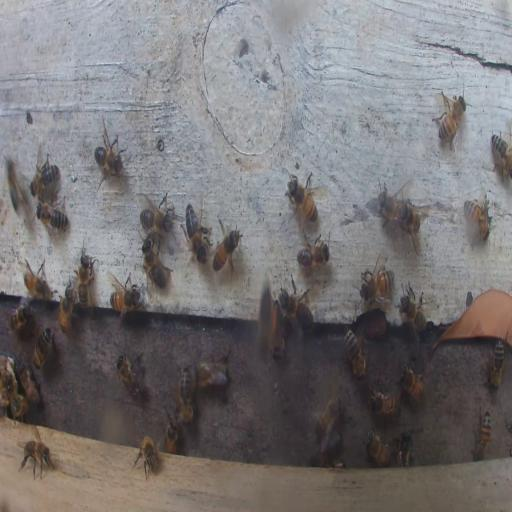bee: (434, 89, 468, 148), (396, 284, 428, 344), (93, 128, 126, 184), (182, 202, 212, 262), (211, 220, 241, 278), (279, 285, 314, 333), (395, 198, 425, 253), (258, 279, 278, 357), (20, 436, 54, 480), (287, 174, 318, 222), (141, 240, 169, 293), (30, 150, 58, 198), (360, 264, 393, 304), (140, 194, 173, 234), (377, 186, 408, 228), (194, 352, 230, 388), (116, 352, 144, 398), (76, 240, 94, 310), (314, 395, 342, 440), (344, 328, 368, 380), (131, 435, 158, 481), (471, 405, 492, 461), (16, 362, 42, 406), (465, 197, 491, 241), (110, 277, 140, 315), (37, 196, 67, 234), (23, 260, 52, 298), (178, 363, 195, 426), (490, 132, 512, 180), (296, 238, 330, 269), (398, 364, 424, 404), (6, 157, 24, 211), (368, 387, 400, 417), (365, 429, 390, 466), (33, 326, 54, 368), (395, 427, 416, 468), (162, 410, 180, 455), (10, 299, 34, 331), (489, 337, 504, 388), (270, 316, 286, 360), (1, 358, 16, 402), (60, 288, 74, 335), (10, 396, 28, 420)
